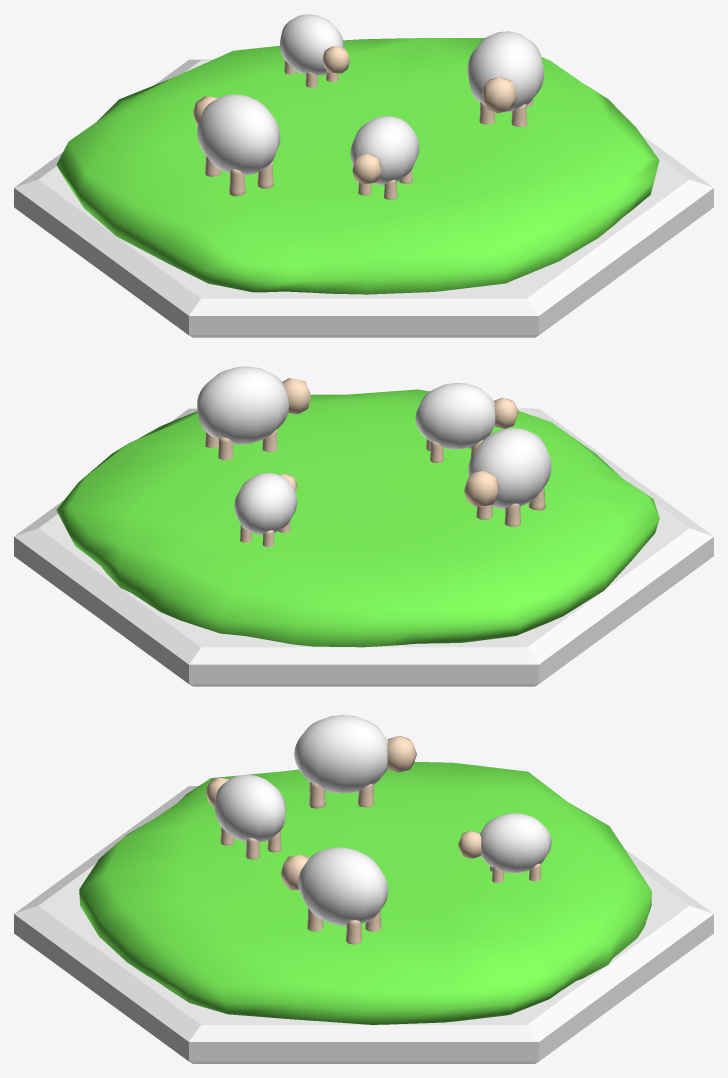
The model's file is wool.fbx.
3 renders of one model, top to bottom at view 1: azimuth 30°, elevation 25°; view 2: azimuth 150°, elevation 25°; view 3: azimuth 270°, elevation 25°, orthographic.
Visible parts, largest first — view 1: Tile; view 2: Tile; view 3: Tile.
Boxes of the visible parts, x1,y1,x2,y2 form: Tile: (14, 14, 713, 337); Tile: (14, 366, 713, 686); Tile: (14, 715, 713, 1063).
Bounding box in the file's own units: 482 × 135 × 557.
